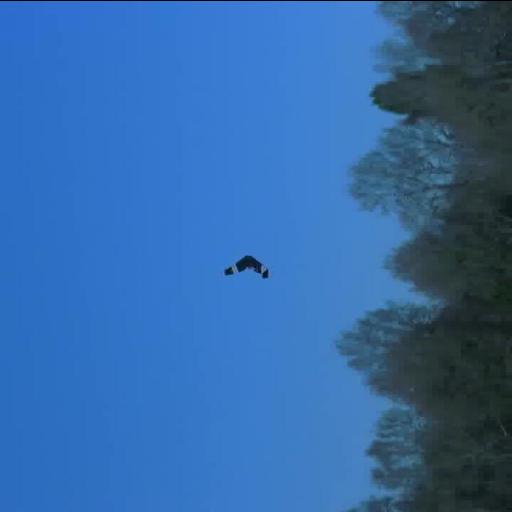uav: (218, 252, 280, 282)
